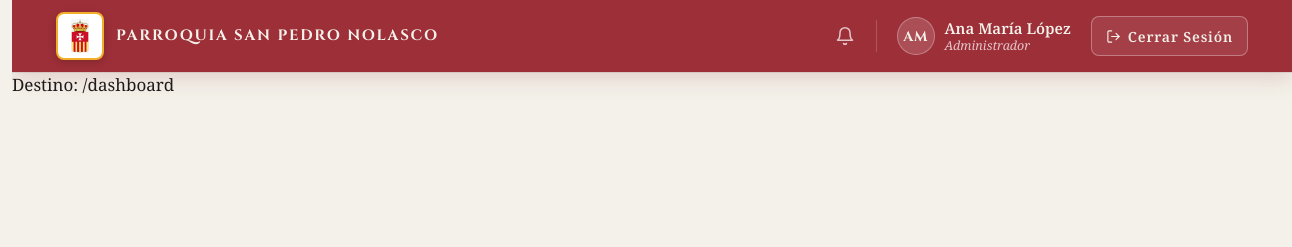
it: layout integrado con sesión y notificaciones › navega aunque falle marcar como leída y no hace PUT para una leída
Click the button titled "Notificaciones". click: (844, 36)
box: [826, 17, 864, 55]
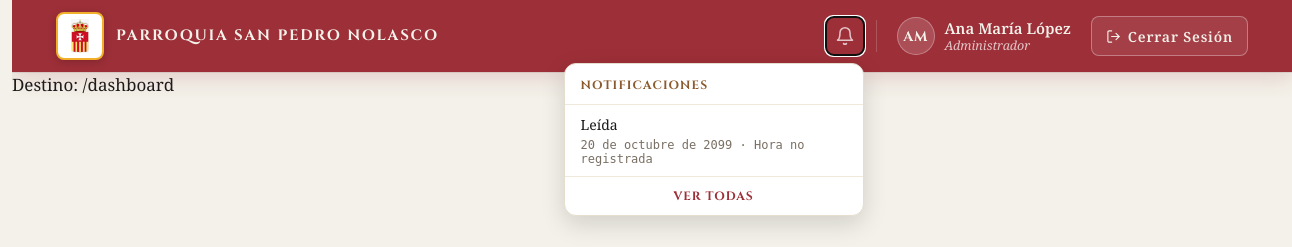
Click the button "Leída 20 de octubre de 2099 · Hora no registrada". click: (714, 141)
box: [564, 105, 862, 177]
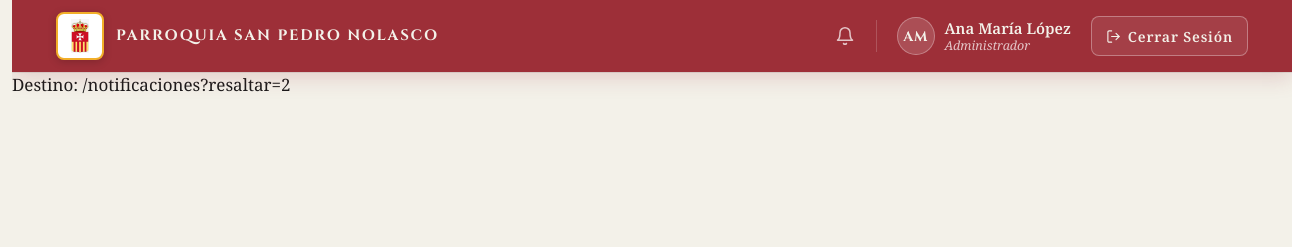
Expected: the text "Destino: /notificaciones?resaltar=2" is shown, [12, 73, 290, 96]
